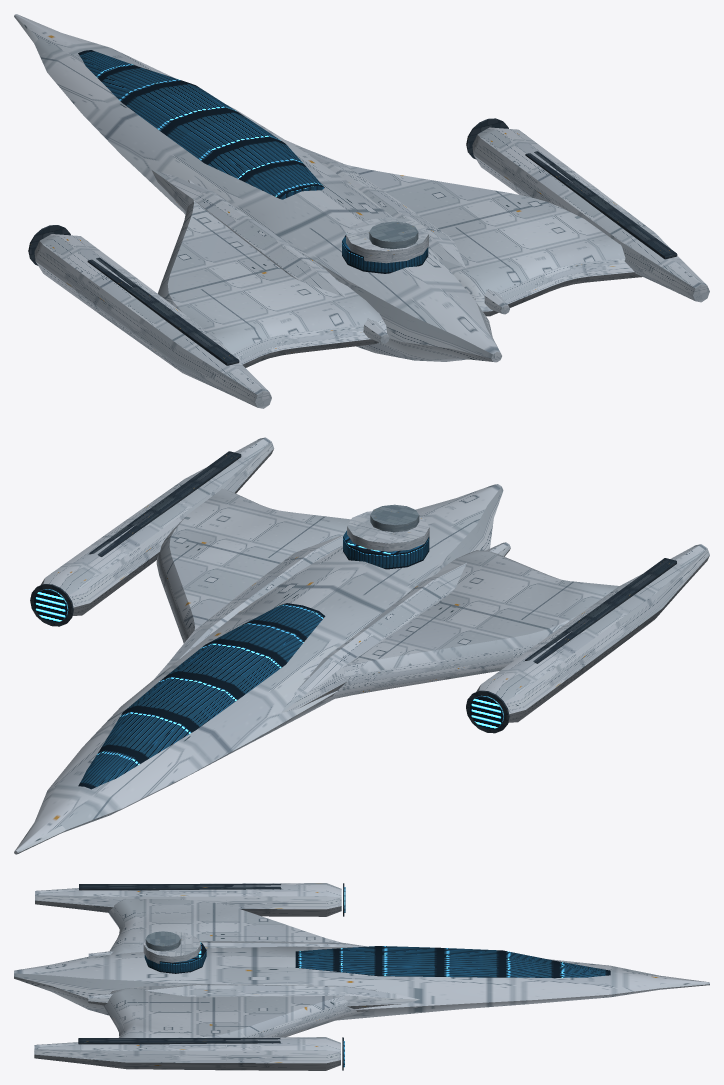
The model's file is alliance_courier_far.glb.
The picture shows the model from 3 angles, top to bottom: view 1: azimuth 30°, elevation 25°; view 2: azimuth 150°, elevation 25°; view 3: azimuth 270°, elevation 25°; orthographic projection. The views are drawn at different scales.
Visible parts, largest first — view 1: alliance_courier_far_source; view 2: alliance_courier_far_source; view 3: alliance_courier_far_source.
Boxes of the visible parts, left/top/right/bottom form: alliance_courier_far_source: left=14, top=14, right=709, bottom=408; alliance_courier_far_source: left=14, top=437, right=709, bottom=854; alliance_courier_far_source: left=14, top=883, right=709, bottom=1070.
Bounding box in the file's own units: 0.4446 × 0.1014 × 0.7569.
1 material, 1 textured.
